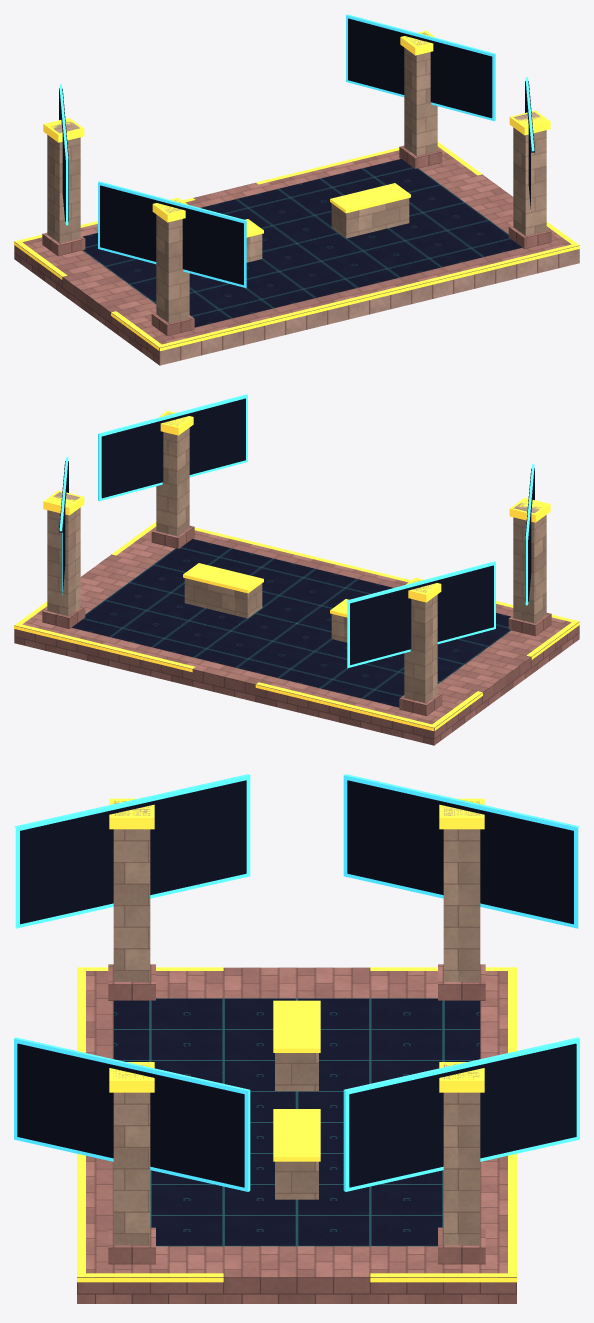
The model's file is skyreach_skywalk_v14.glb.
3 views of the same model, one above another, from view 1: azimuth 30°, elevation 25°; view 2: azimuth 150°, elevation 25°; view 3: azimuth 270°, elevation 25° (orthographic). The views are drawn at different scales.
Visible parts, largest first — view 1: skyreach_skywalk_v14; view 2: skyreach_skywalk_v14; view 3: skyreach_skywalk_v14.
Part boxes in pixels (x1=…): skyreach_skywalk_v14: x1=14, y1=14, x2=579, y2=365; skyreach_skywalk_v14: x1=14, y1=394, x2=579, y2=745; skyreach_skywalk_v14: x1=14, y1=774, x2=579, y2=1303.
Size of the model in its own units: 20.48 by 6.67 by 15.45.
Materials: 9 (6 with a texture image).
